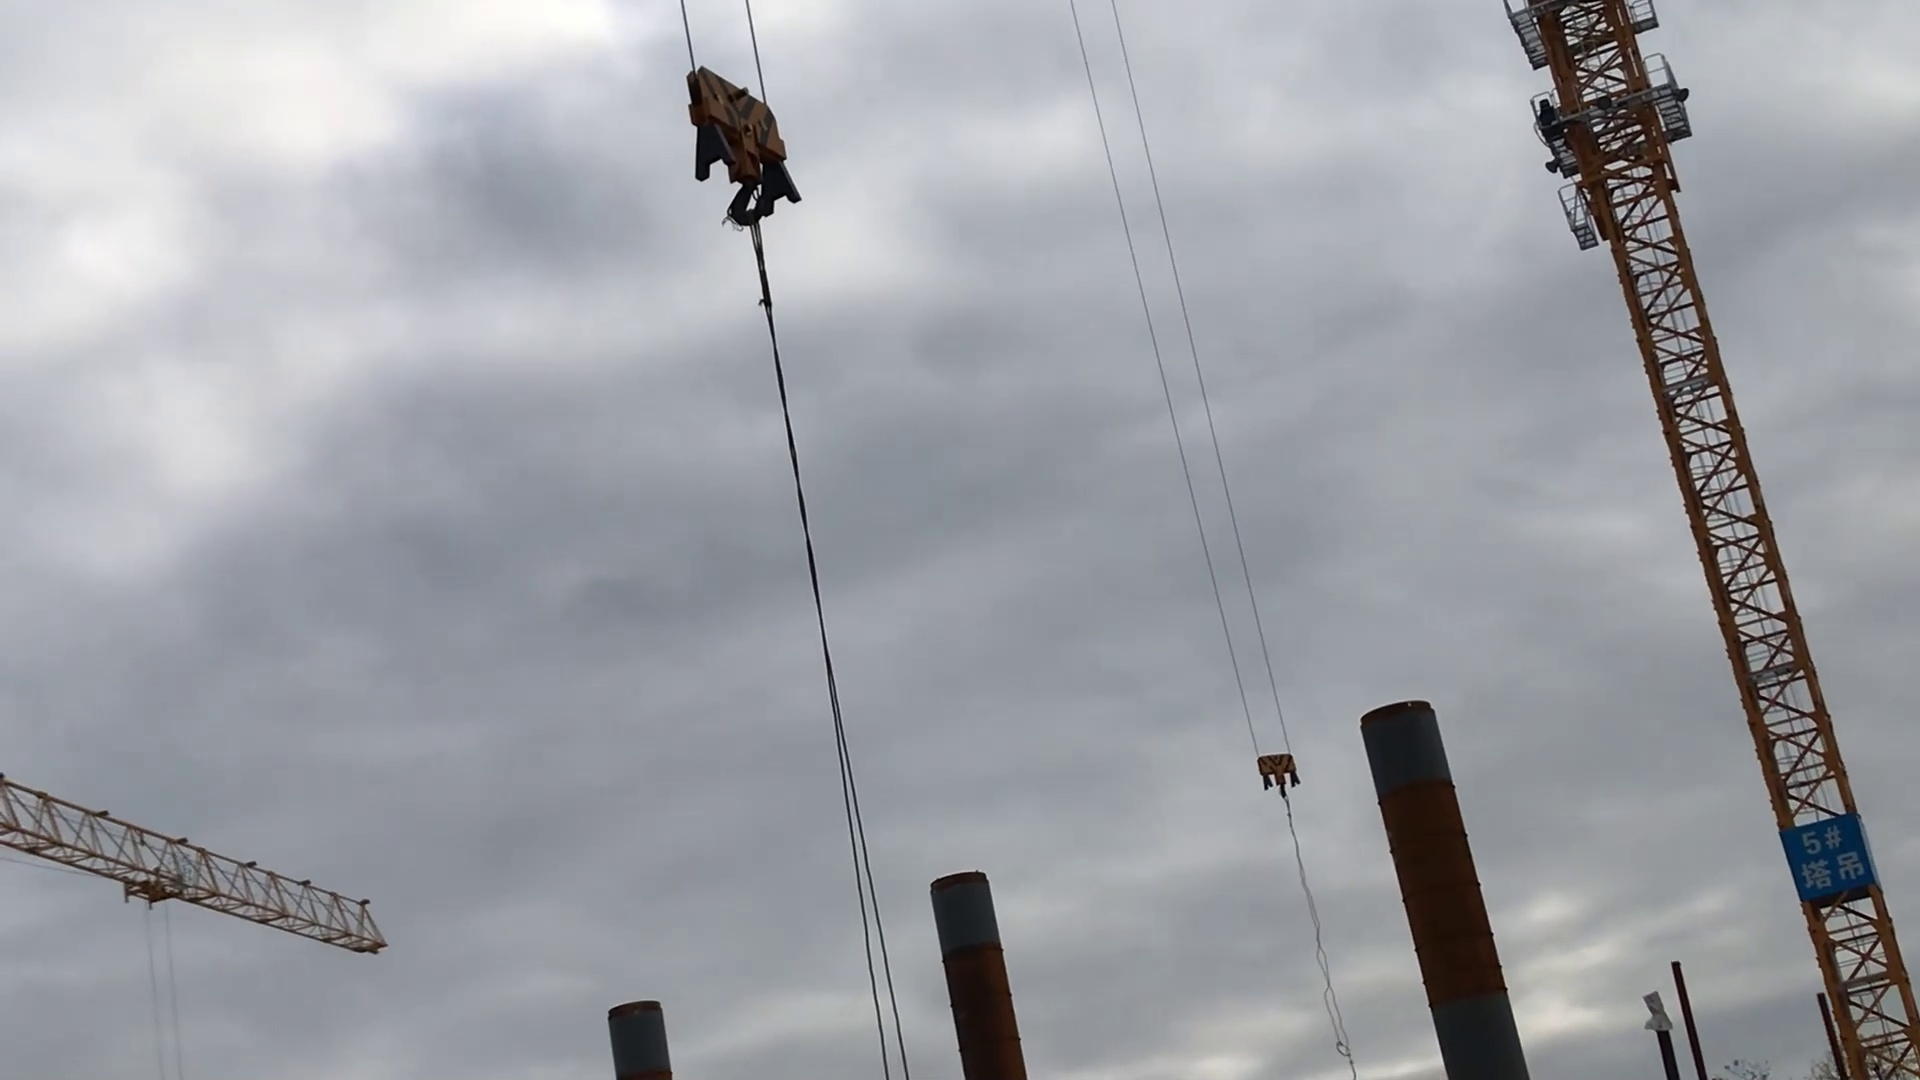hook: (662, 47, 824, 237), (1244, 733, 1312, 802)
